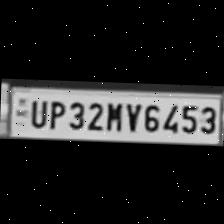2: (84, 99, 104, 130)
3: (64, 97, 84, 130), (197, 102, 217, 134)
4: (159, 100, 179, 132)
5: (178, 100, 198, 132)
6: (140, 100, 160, 133)
M: (103, 98, 123, 132)
P: (46, 97, 64, 129)
U: (26, 97, 46, 128)
V: (122, 98, 140, 132)
